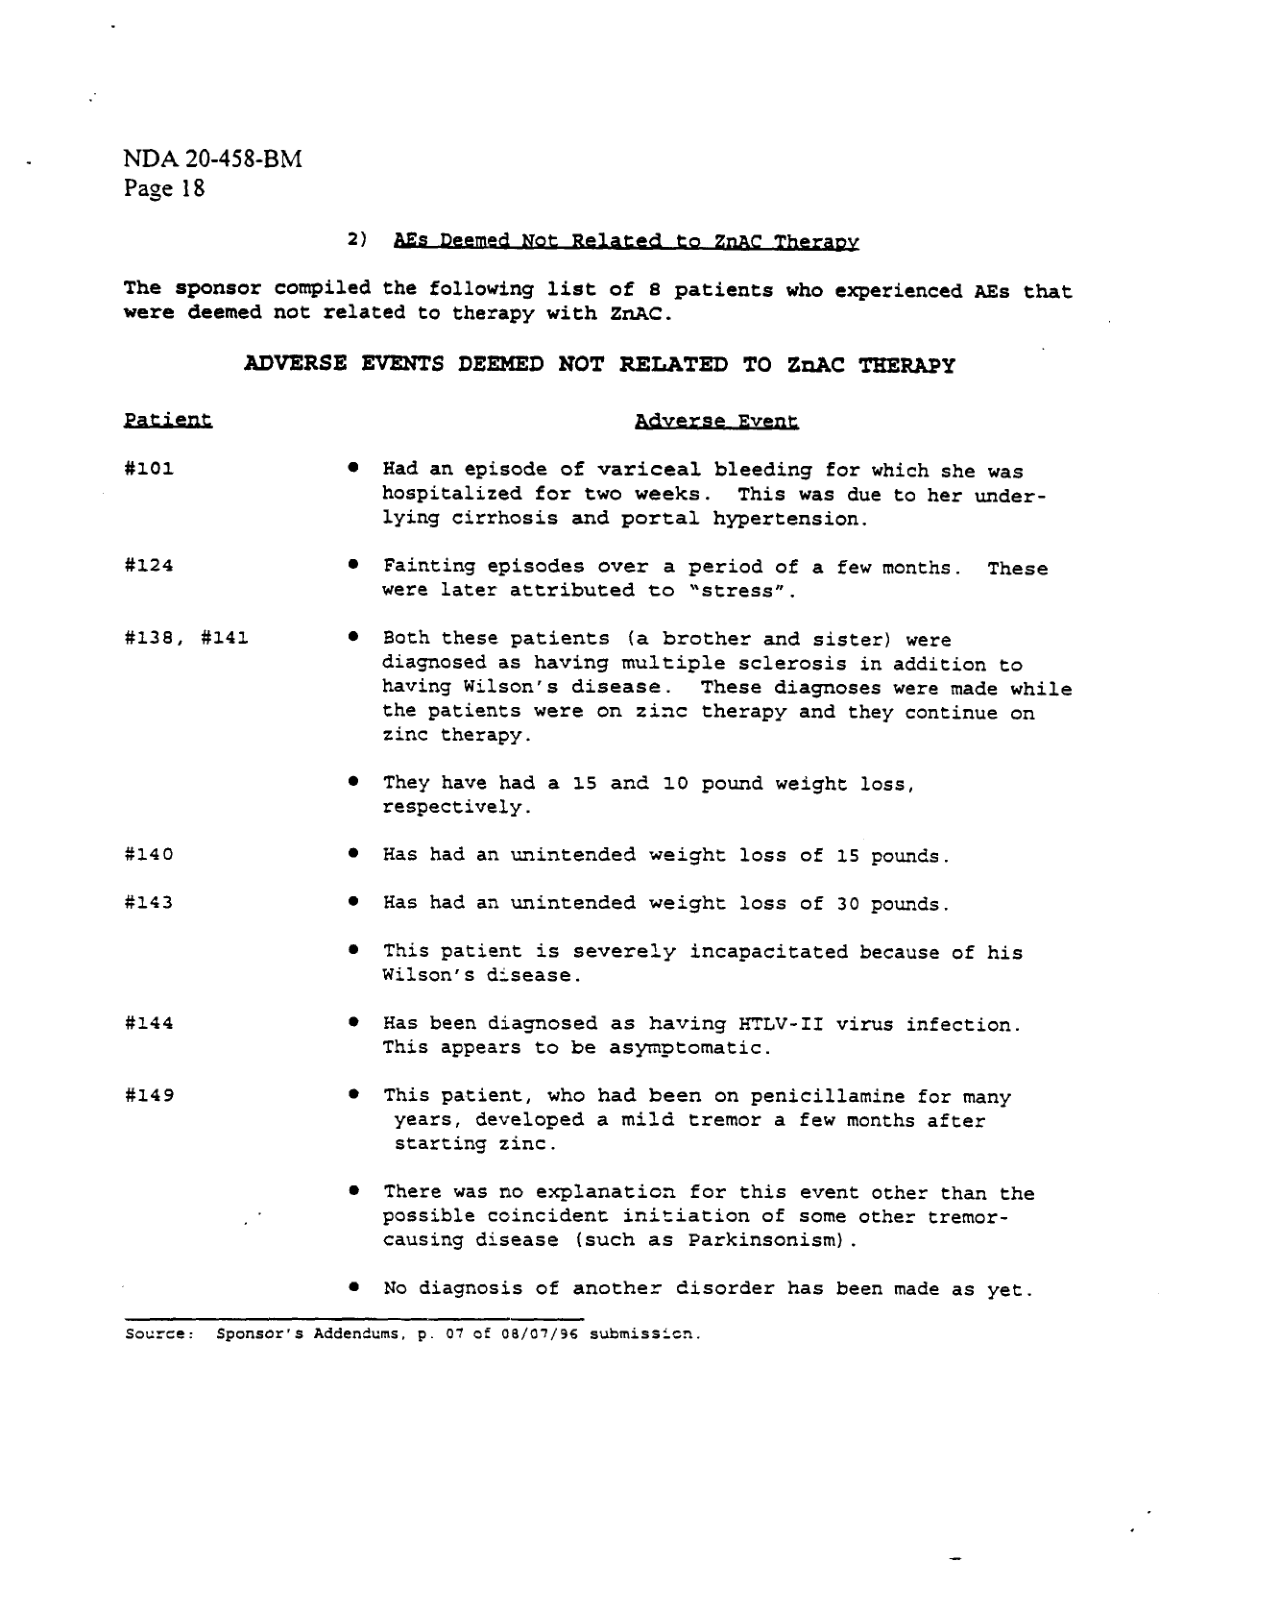nolines: (121, 409, 1076, 1313)
